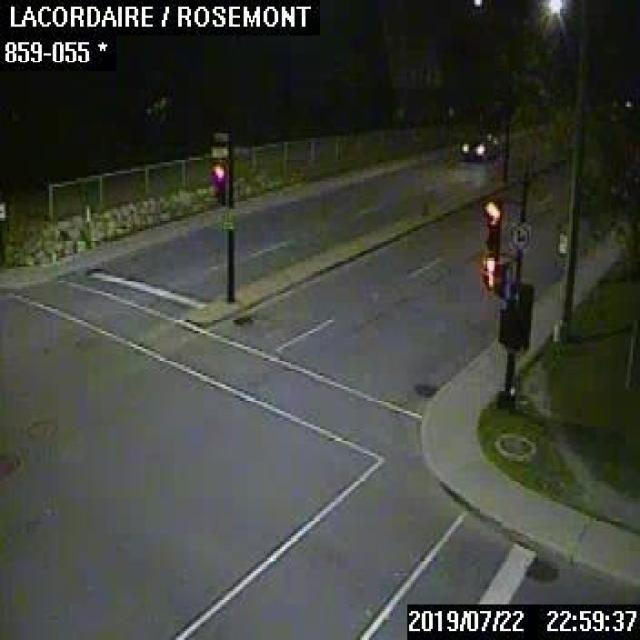vehicle: (460, 129, 499, 160)
